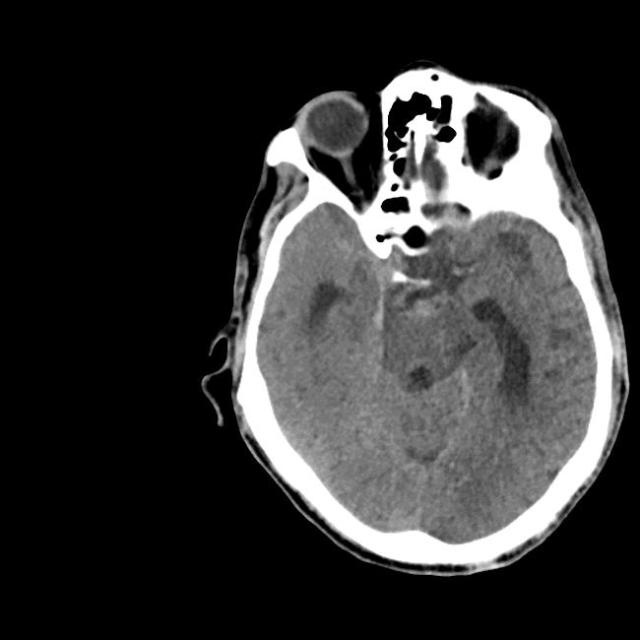lesion: (200, 60, 631, 577)
